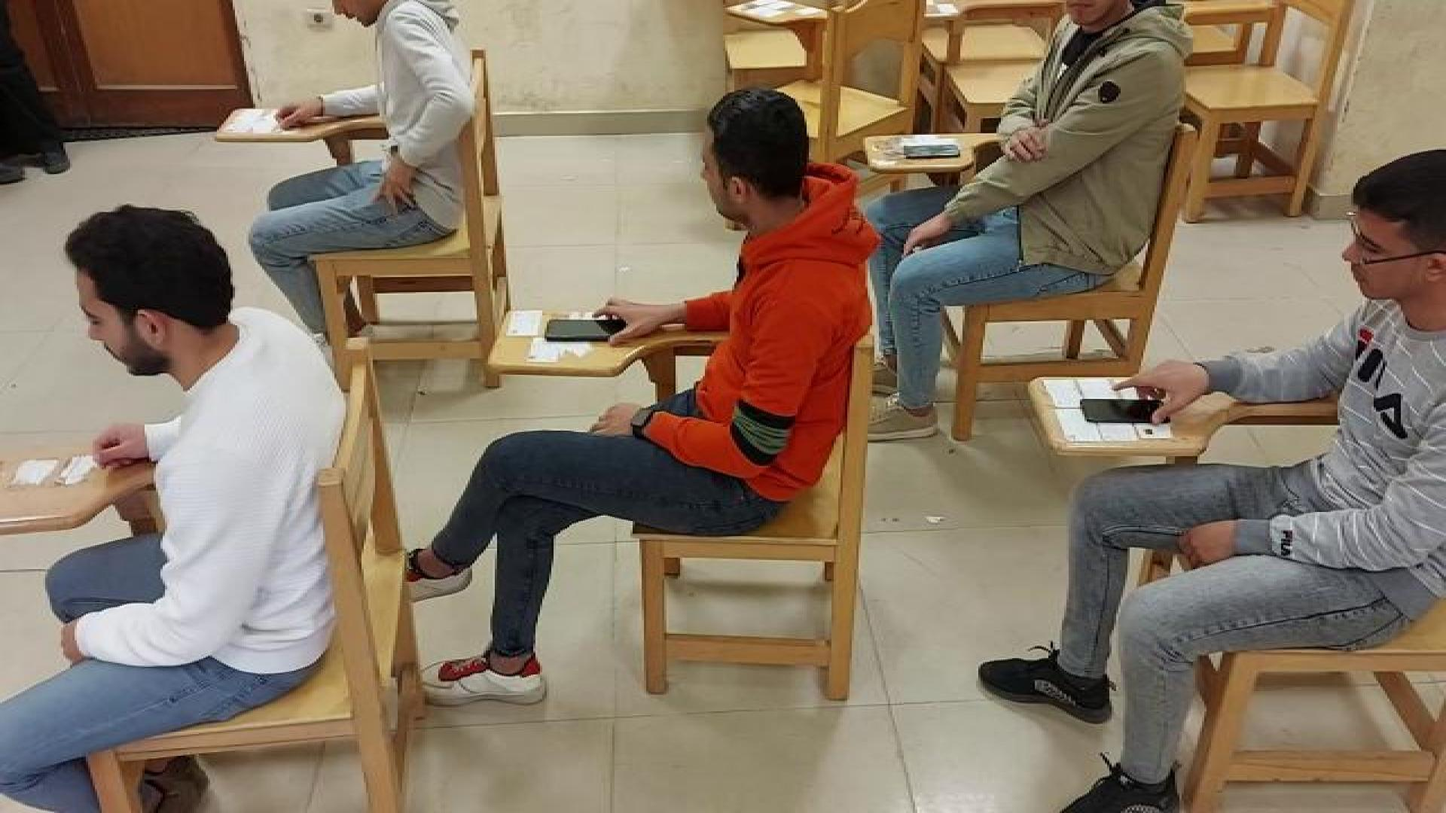phone: (1078, 398, 1166, 426), (543, 318, 618, 342), (900, 145, 964, 159)
